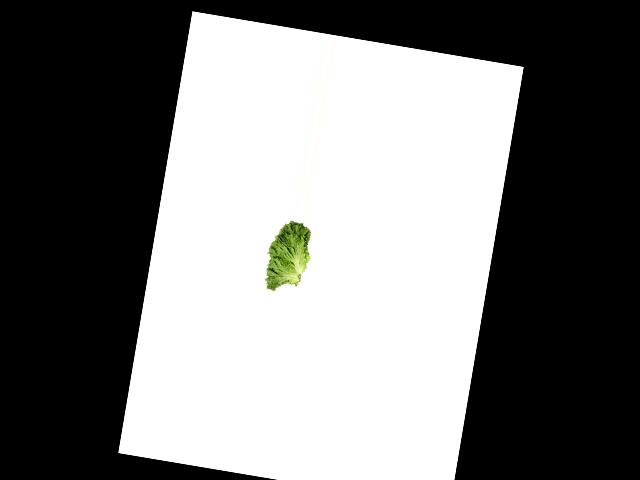lettuce: (256, 216, 318, 296)
